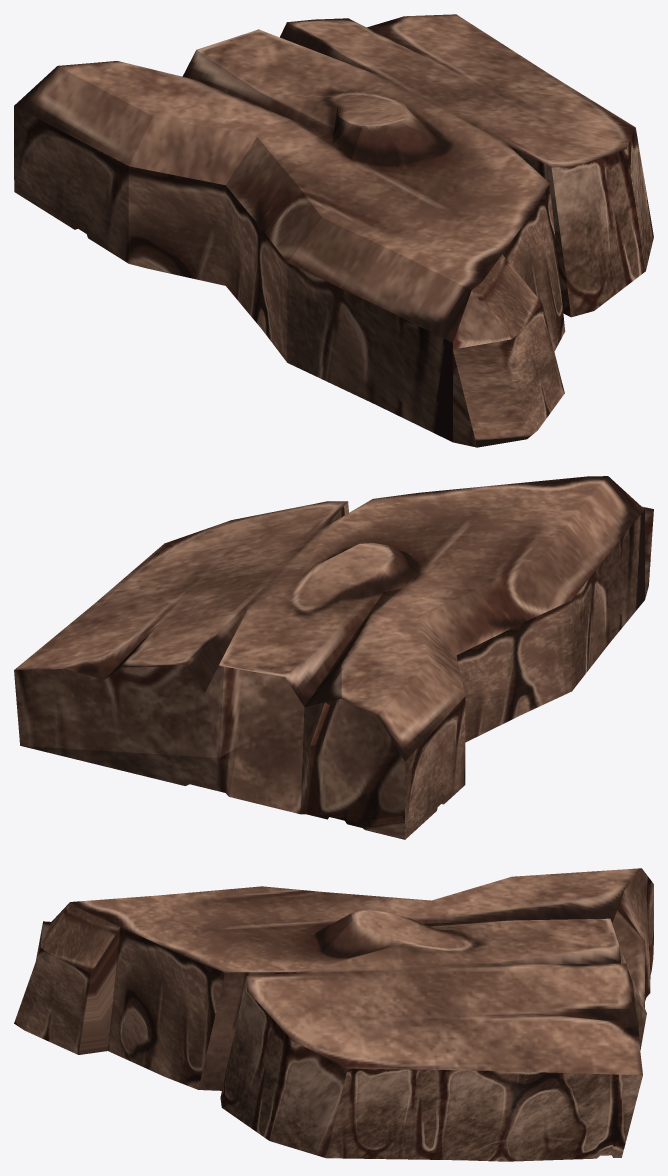
Rendered from rock2_Atexture.fbx.
3 views of the same model, one above another, from view 1: azimuth 30°, elevation 25°; view 2: azimuth 150°, elevation 25°; view 3: azimuth 270°, elevation 25° (orthographic). The views are drawn at different scales.
Parts seen in each view (by area): view 1: Plane.002; view 2: Plane.002; view 3: Plane.002.
Part boxes in pixels (left/top/right/bottom): Plane.002: left=14, top=14, right=653, bottom=447; Plane.002: left=14, top=476, right=653, bottom=839; Plane.002: left=14, top=868, right=653, bottom=1161.
Bounding box in the file's own units: 140 × 63.47 × 202.
